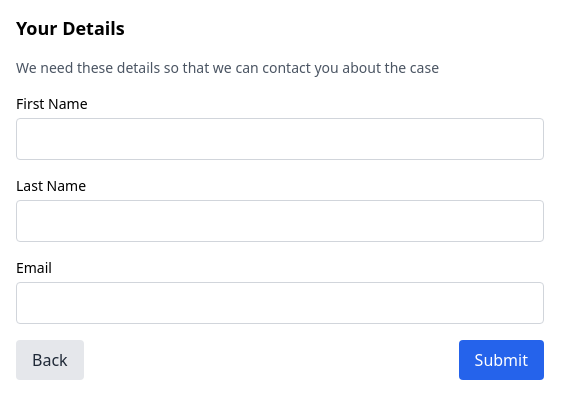
Your details page › submitting › sends every answer to the API and shows the case reference
Type "Jane" into the field with test id "firstName" at (280, 139), box [16,118,544,160]
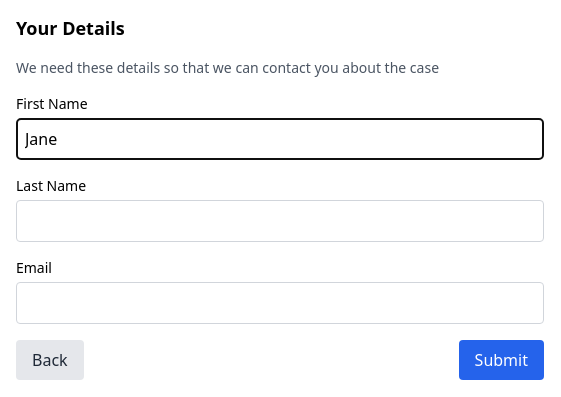
Type "Doe" into the field with test id "lastName" at (280, 221), box [16,200,544,242]
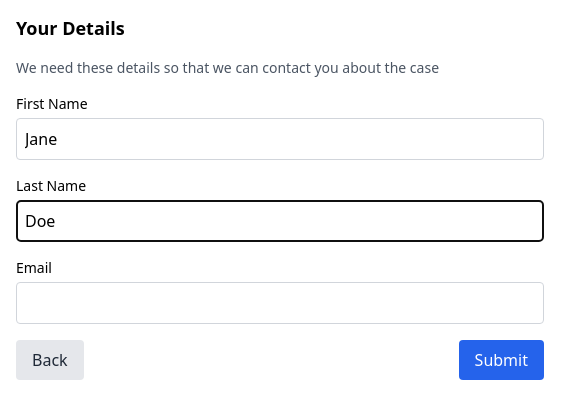
Type "jane.doe@example.com" into the field with test id "email" at (280, 303), box [16,282,544,324]
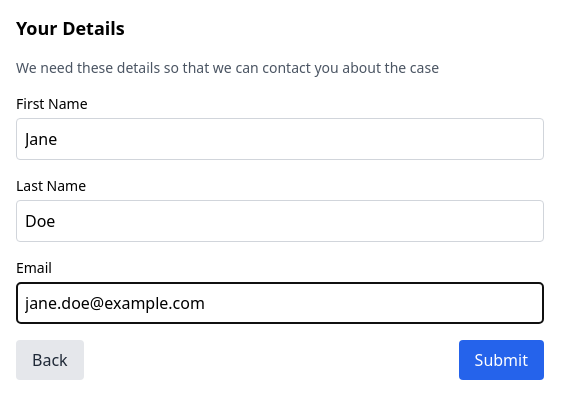
Click the button "Submit" at (502, 360), box [459,340,544,380]
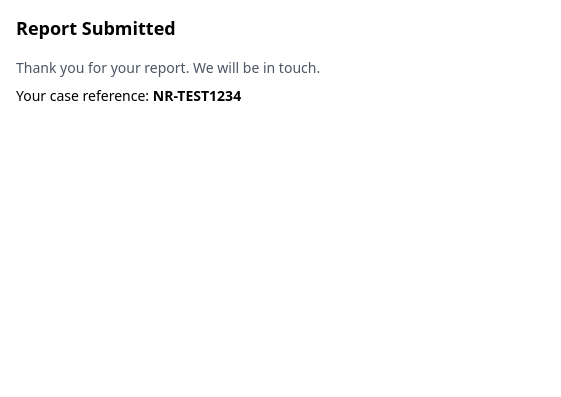
Now the heading "Report Submitted" is shown, box [16,16,176,40]
Now the text with test id "case-reference" reads "NR-TEST1234", box [153,86,241,105]
